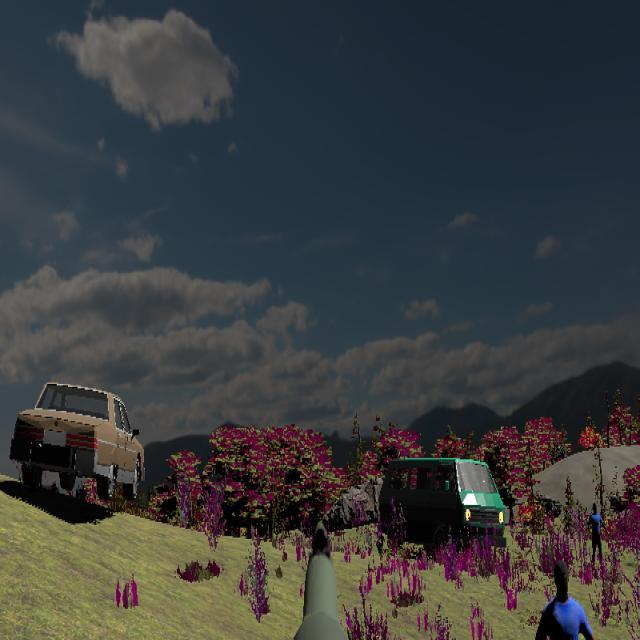Human: (529, 558, 607, 640), (583, 503, 611, 574)
car: (8, 382, 145, 502), (379, 456, 507, 554)
